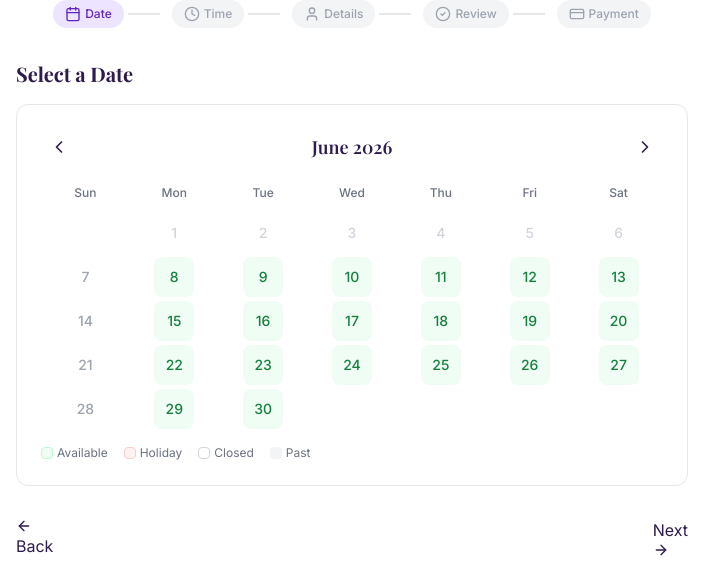
BookingWizard › consultation: back button navigates to previous step
Step 1. Click the button "30" → (263, 409), box [243,389,283,429]
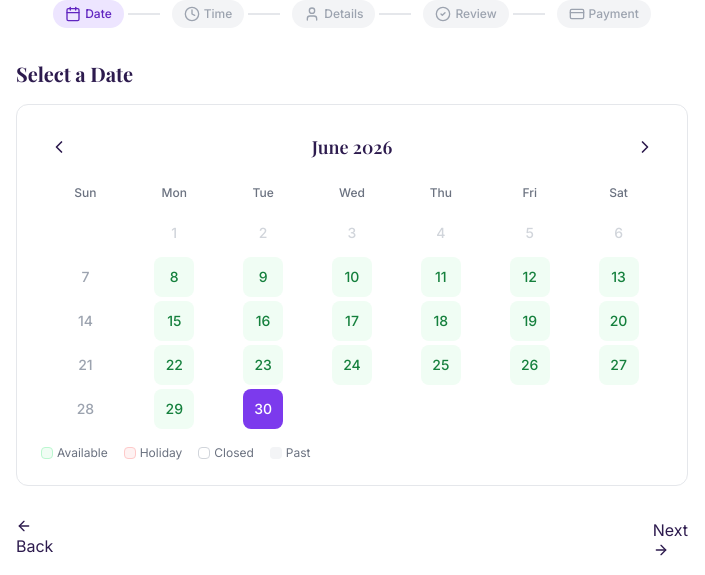
Step 2. Click the button "Next" → (670, 538), box [653,518,688,558]
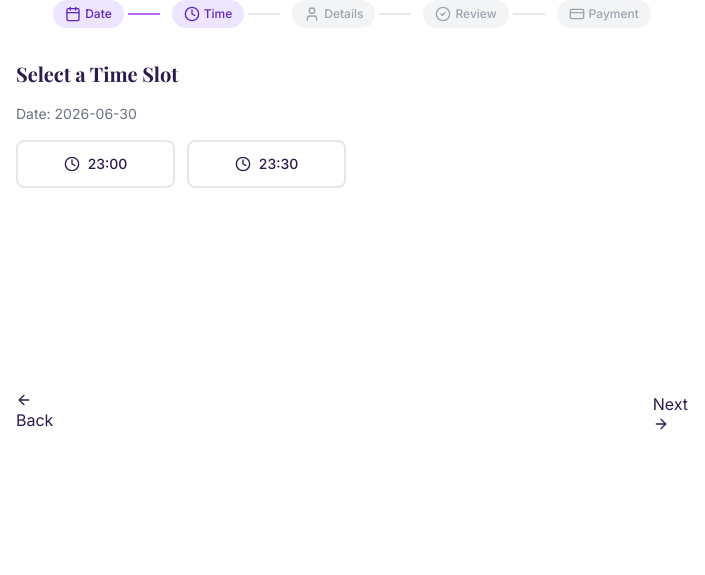
Expected: the heading "Select a Time Slot" is shown, [16,60,178,87]
Step 3. Click the button "Back" → (35, 412), box [16,392,53,432]
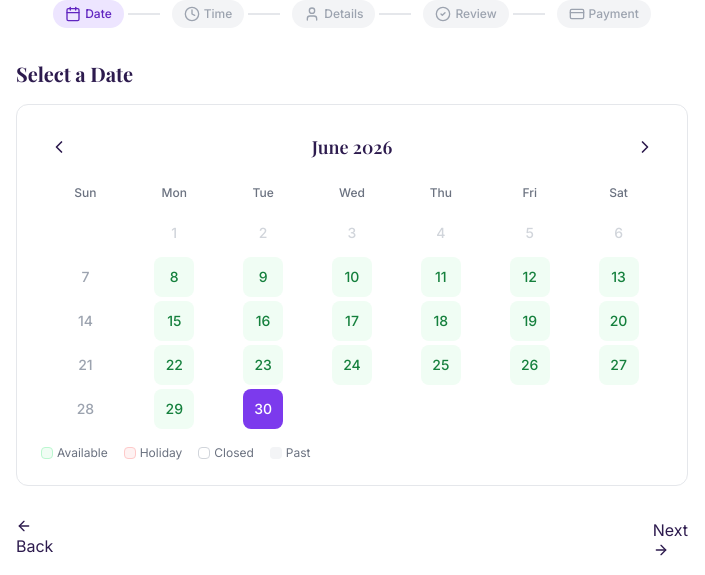
Expected: the heading "Select a Date" is shown, [16,60,133,87]
